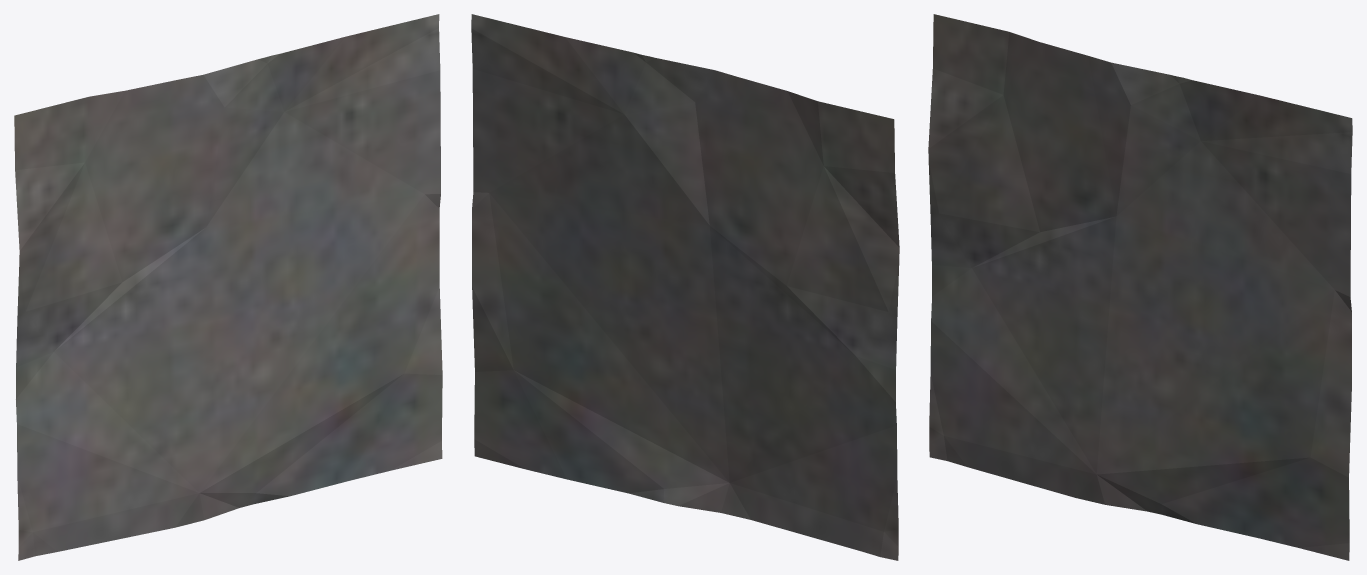
Rendered from Tile_+003_+007_L24_0032023.obj.
The picture shows the model from 3 angles, left to right: view 1: azimuth 30°, elevation 25°; view 2: azimuth 150°, elevation 25°; view 3: azimuth 330°, elevation 25°; orthographic projection.
Size of the model in its own units: 0.9531 by 0.9531 by 0.0443.
1 material, 1 textured.
